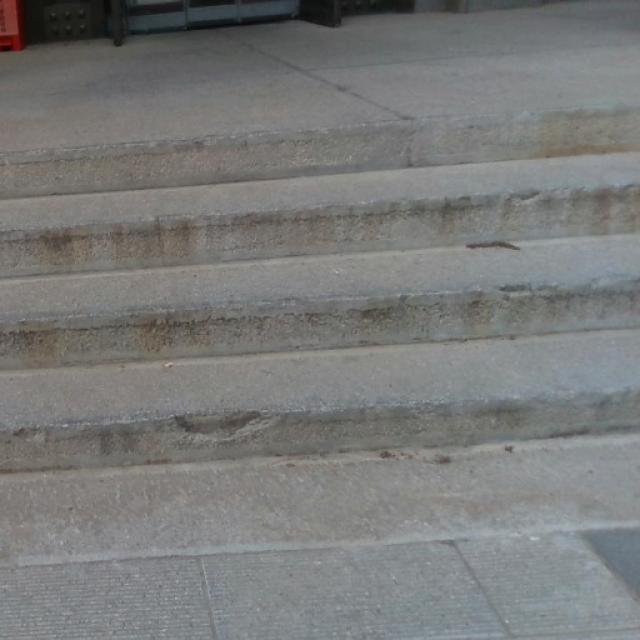Stairs: (0, 104, 639, 564)
